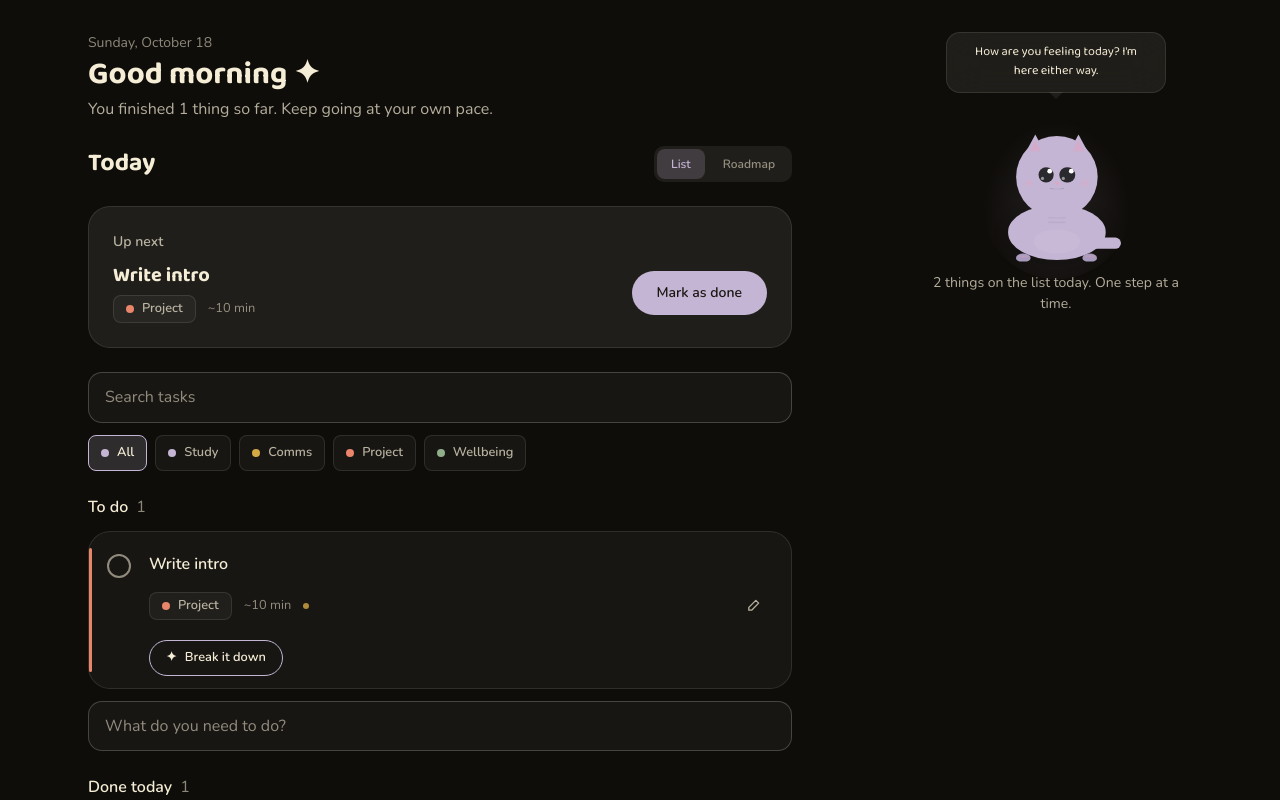
Test case: TodayView › adds a typed task
This screenshot has width=1280, height=800.
In the field named "Add a new task": (440, 726) [88,700,792,751], type "Email Sam"
Then press Enter
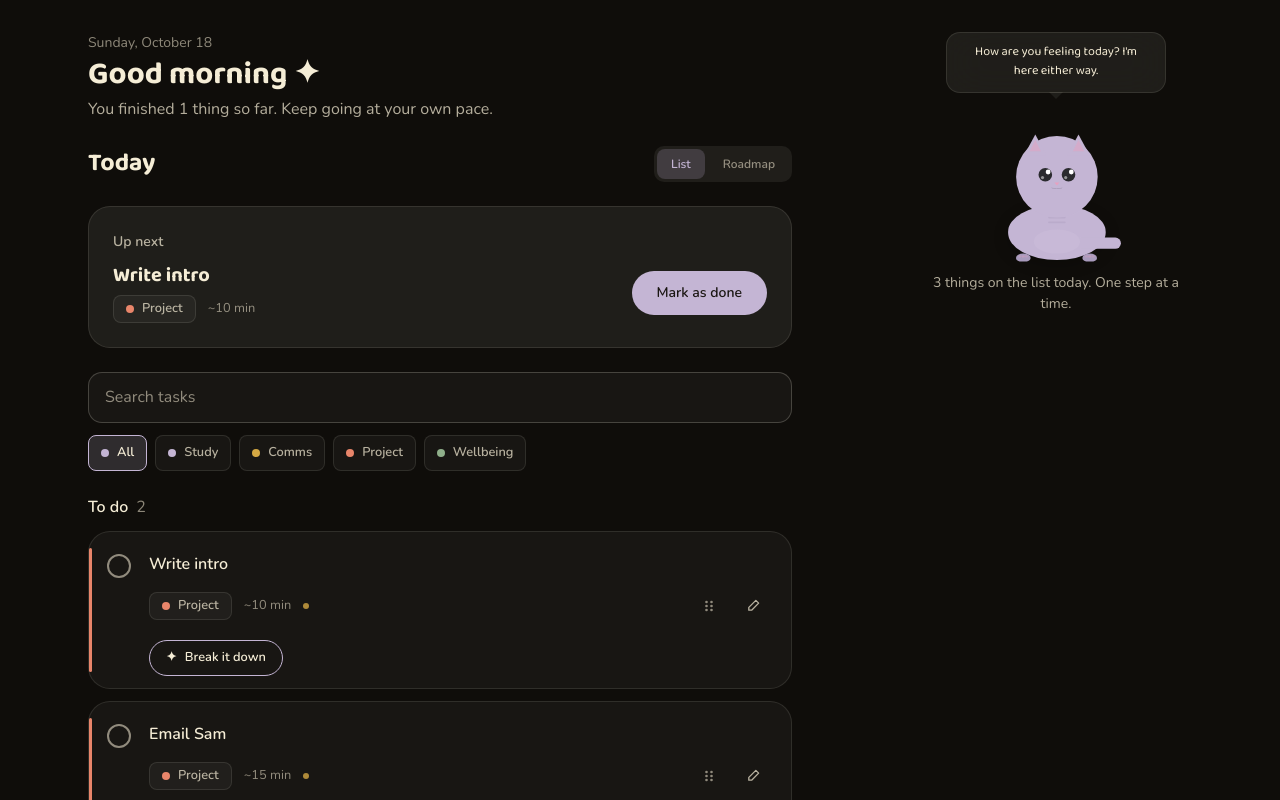
Now the text "Email Sam" is shown, box [149,722,226,744]
